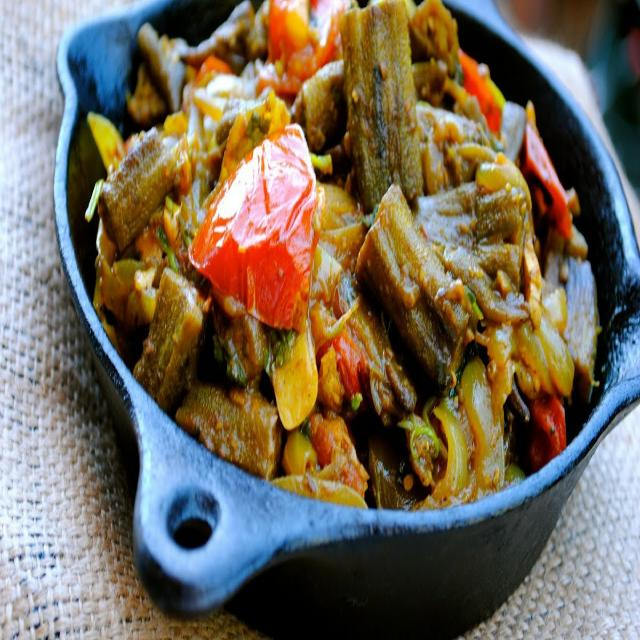BhindiMasala: (85, 0, 597, 511)
